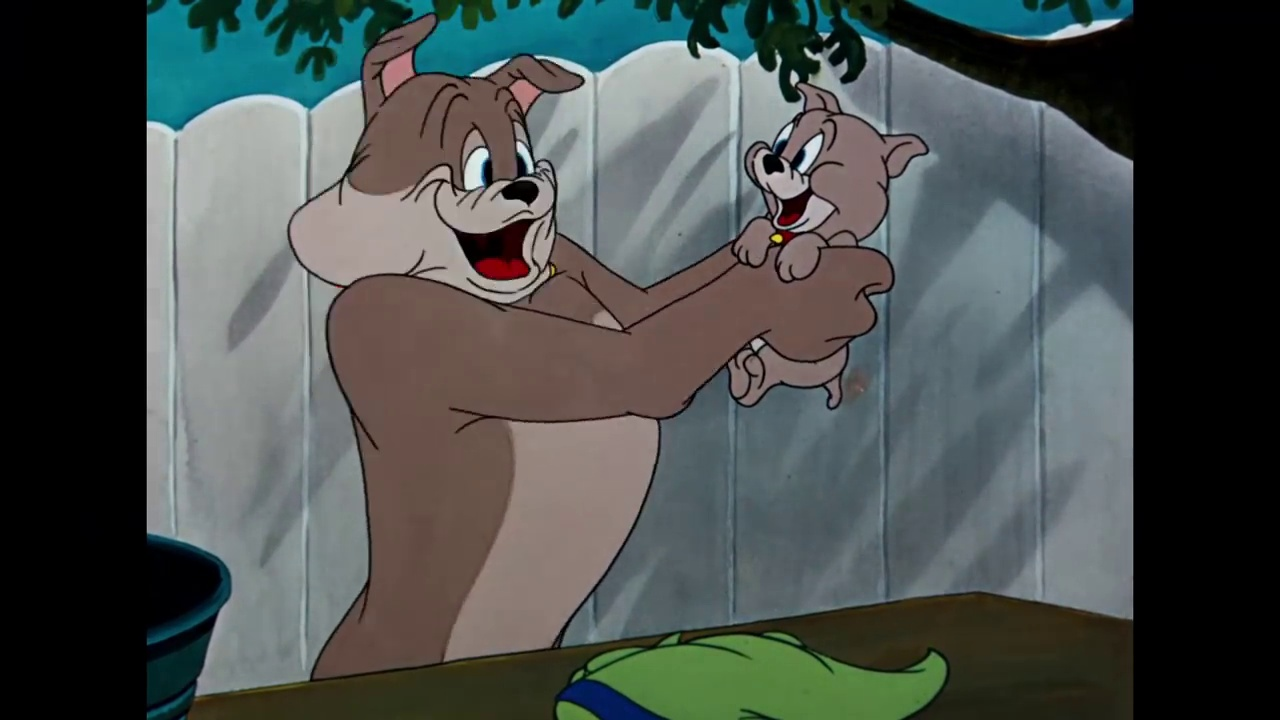spike: (287, 16, 587, 304)
